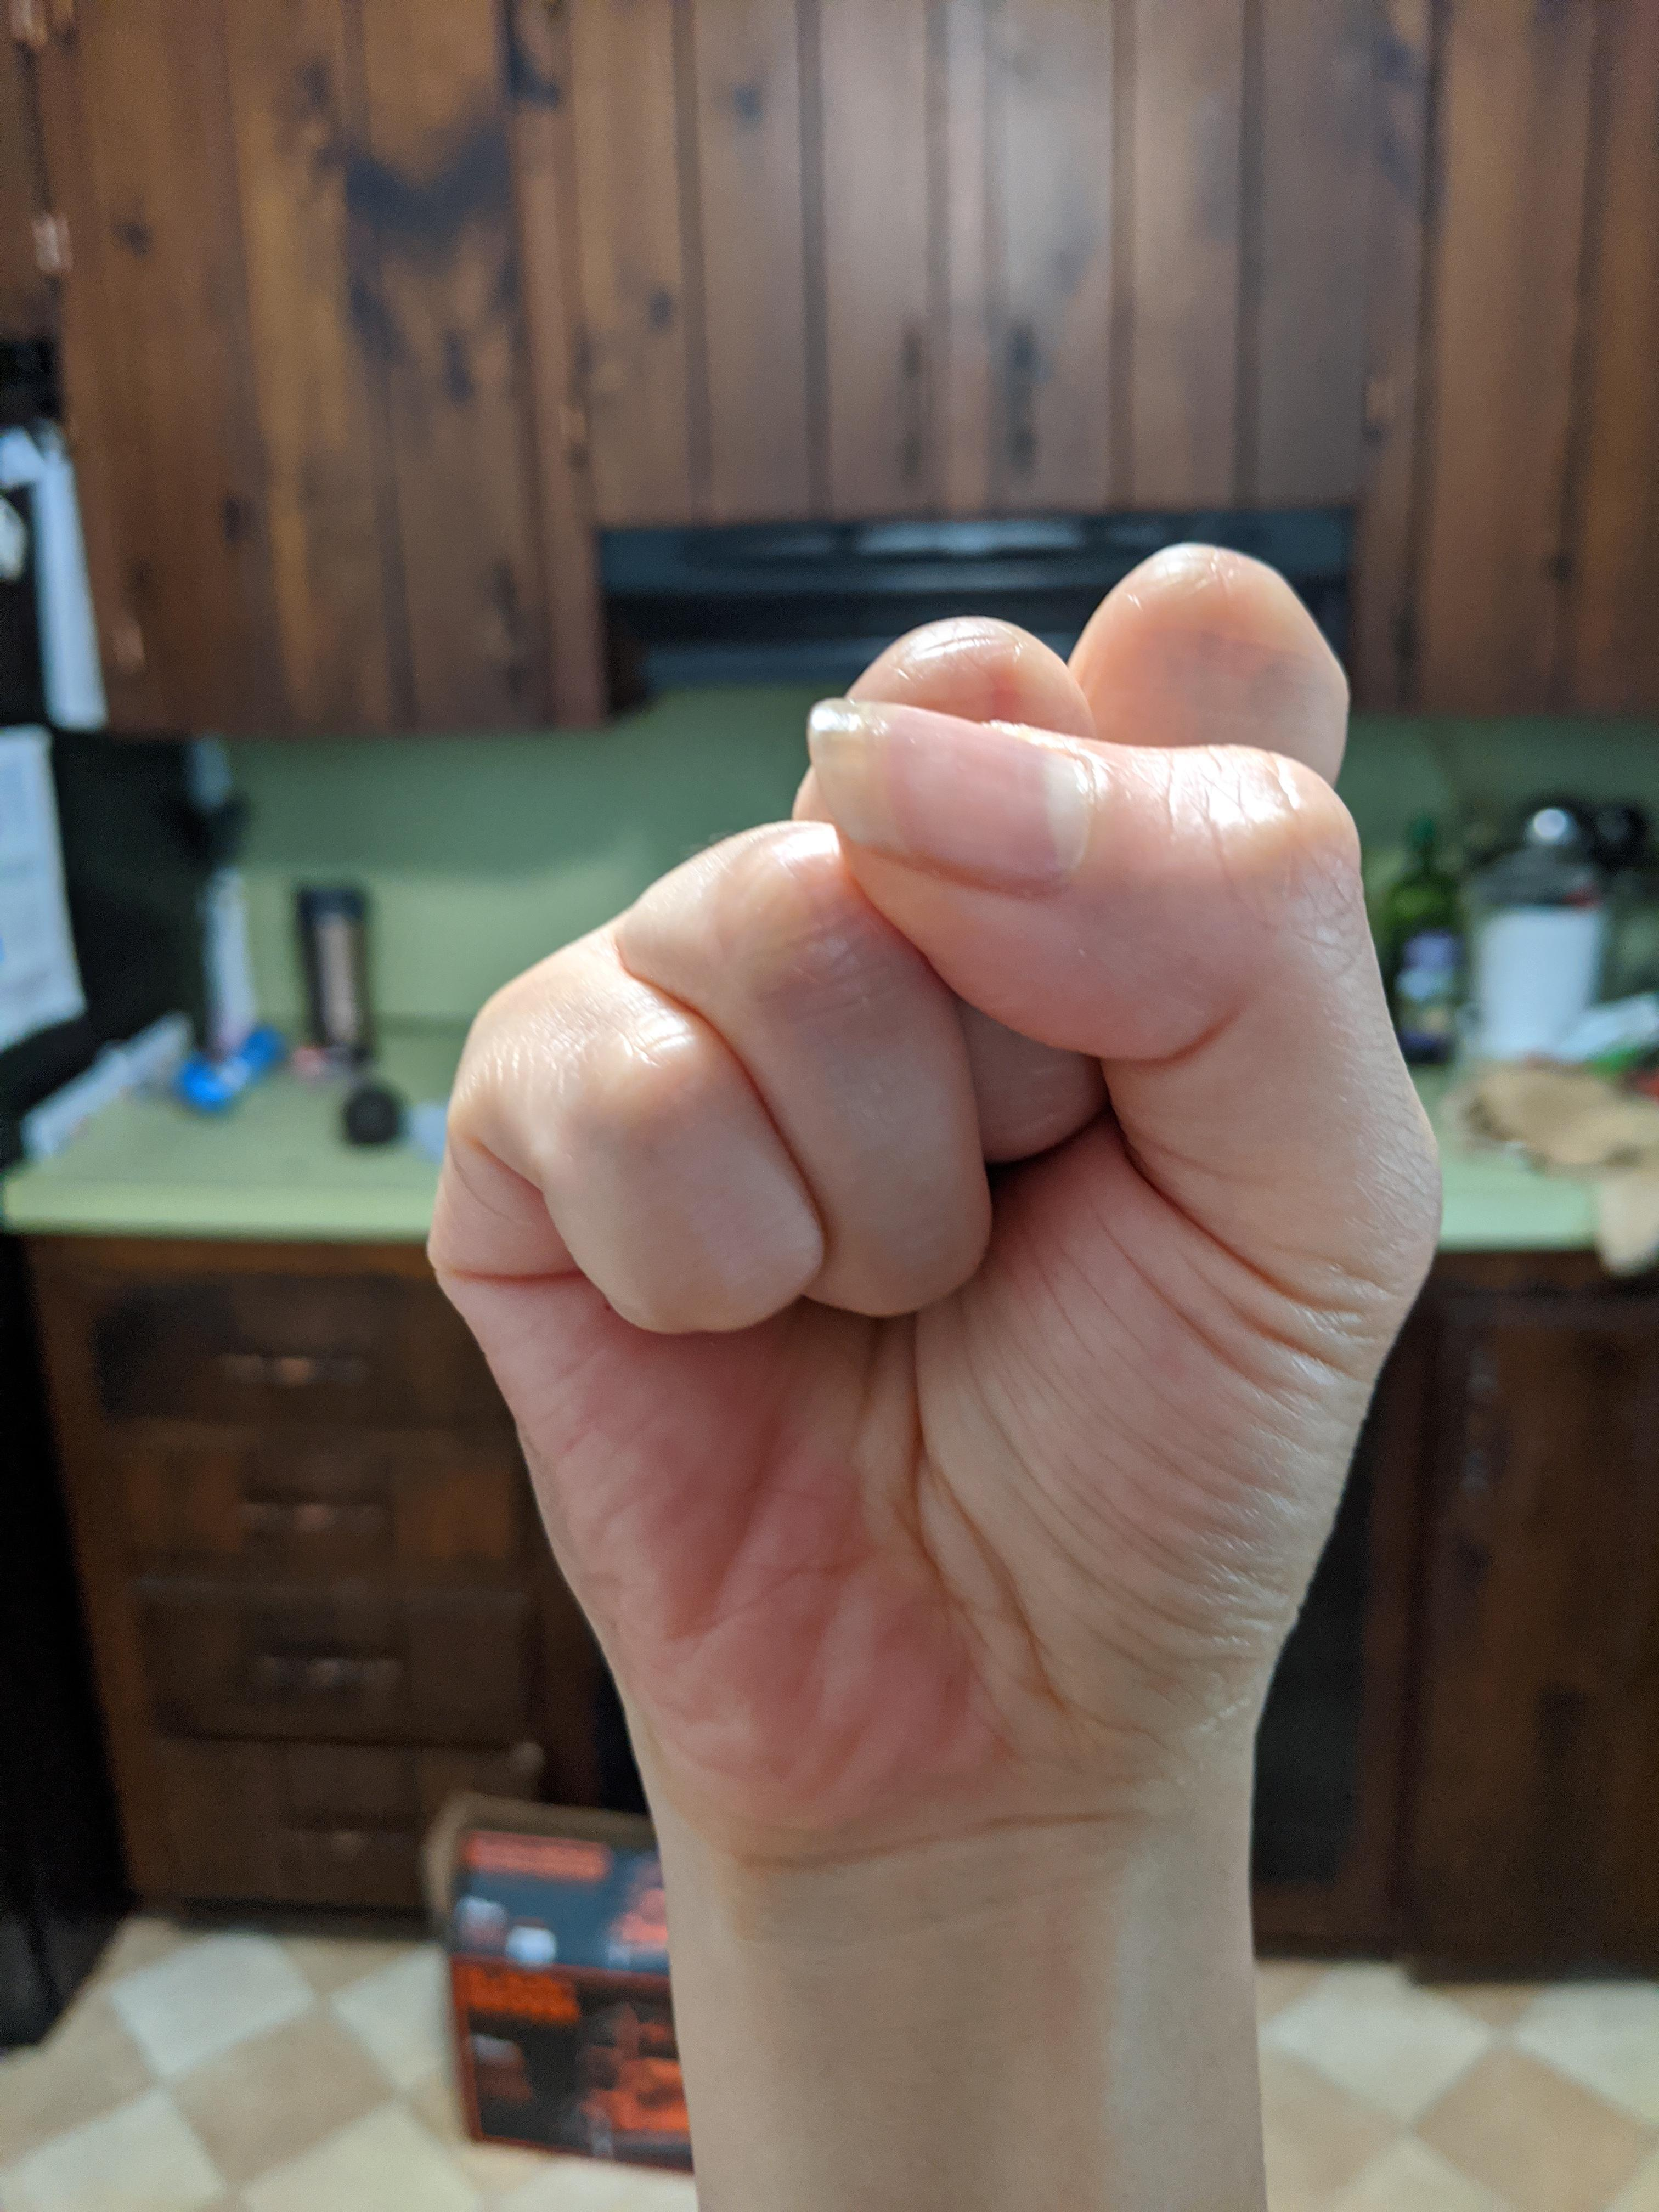S: (404, 519, 1460, 1919)
